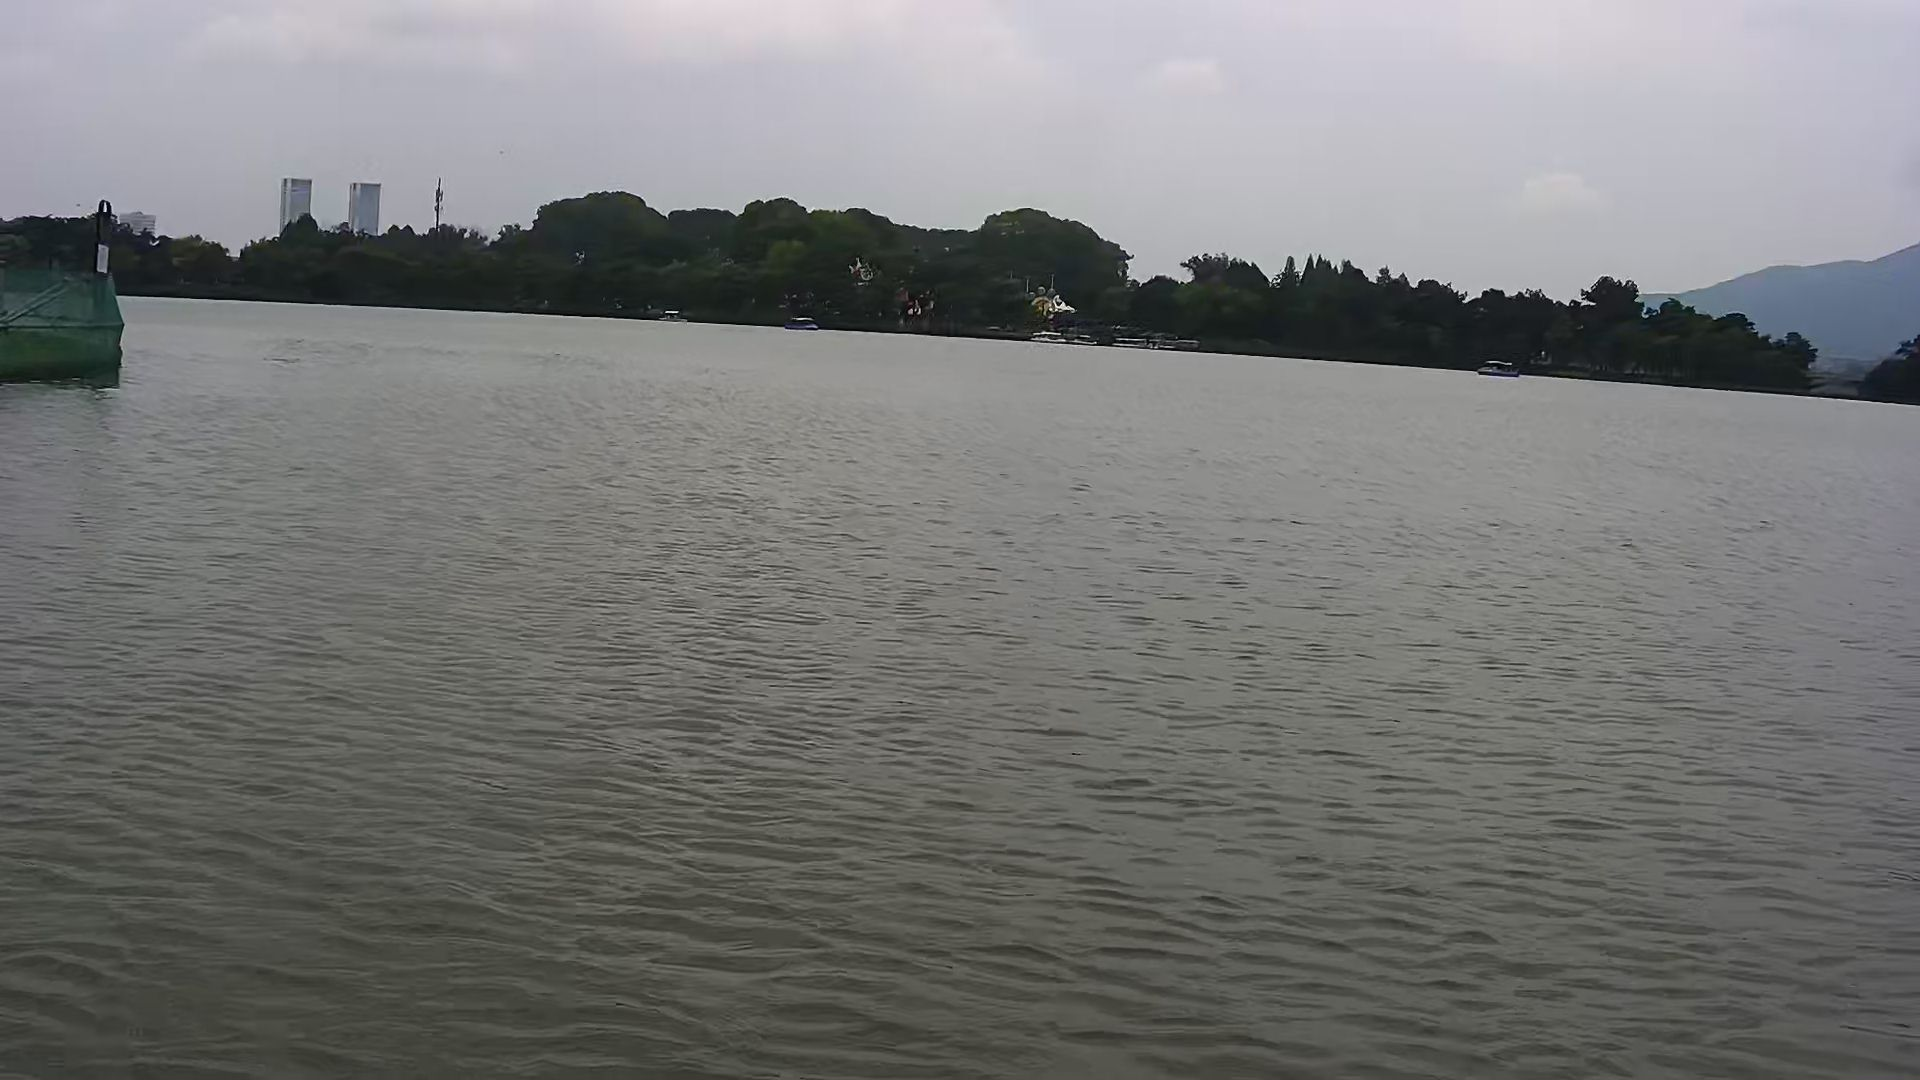boat: (1472, 357, 1518, 380), (782, 316, 822, 338)
